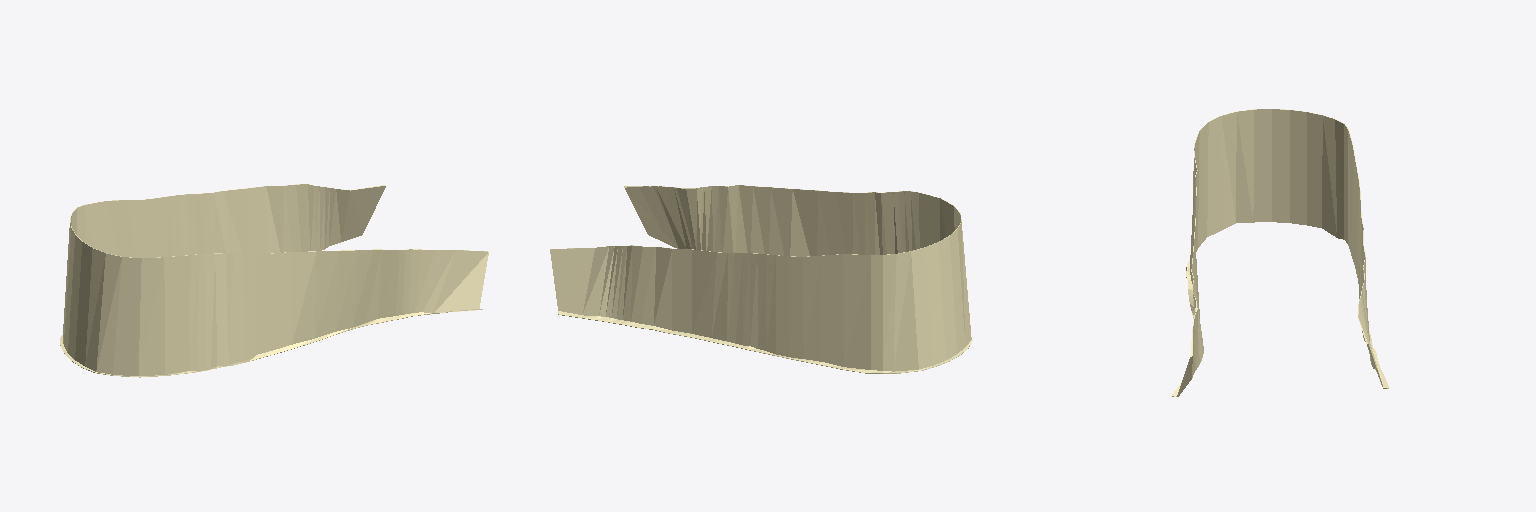
The picture shows the model from 3 angles: view 1: azimuth 30°, elevation 25°; view 2: azimuth 150°, elevation 25°; view 3: azimuth 270°, elevation 25°; orthographic projection.
Parts seen in each view (by area): view 1: BezierCurveC_CUBezierCurve.004; view 2: BezierCurveC_CUBezierCurve.004; view 3: BezierCurveC_CUBezierCurve.004.
Part boxes in pixels (x1,y1,x2,y2): BezierCurveC_CUBezierCurve.004: (60,184,488,377); BezierCurveC_CUBezierCurve.004: (550,185,972,373); BezierCurveC_CUBezierCurve.004: (1171,109,1388,396).
Size of the model in its own units: 16.44 by 5.05 by 8.26.
1 materials, 1 textured.